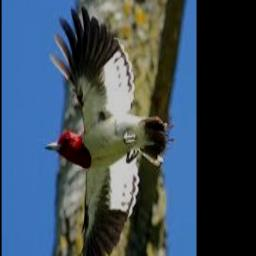Woodpecker: (45, 7, 173, 256)
